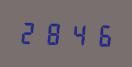eight: (41, 19, 63, 46)
four: (64, 19, 86, 47)
six: (87, 20, 109, 48)
two: (18, 18, 40, 46)
